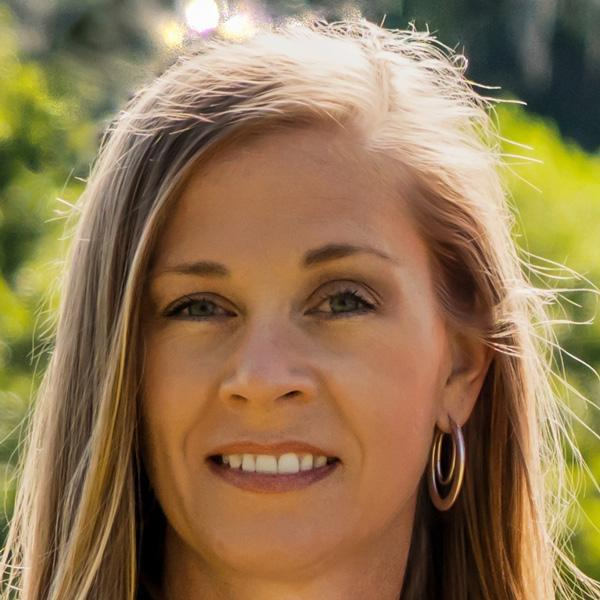Eyes: (289, 271, 388, 334), (155, 284, 246, 332)
